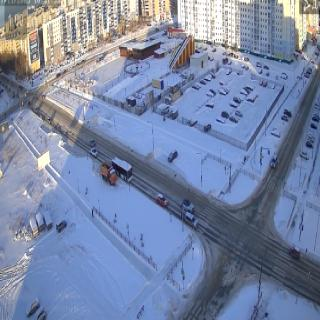large-vehicle: (113, 156, 133, 184), (101, 162, 116, 186)
small-vehicle: (183, 212, 198, 231), (24, 301, 39, 315), (180, 198, 193, 211), (156, 194, 168, 208), (289, 246, 300, 261), (35, 309, 49, 320), (167, 150, 178, 163), (57, 220, 67, 233), (271, 125, 281, 138), (270, 155, 278, 169), (87, 136, 96, 148), (300, 150, 309, 161), (160, 105, 169, 116), (221, 110, 229, 122), (310, 113, 320, 122), (205, 102, 214, 111), (91, 148, 99, 158), (305, 140, 313, 150), (306, 131, 315, 139), (309, 120, 317, 129), (229, 102, 237, 110), (234, 97, 242, 105), (204, 122, 211, 131), (192, 84, 199, 93), (236, 111, 243, 118), (282, 112, 288, 120), (229, 116, 237, 122)
